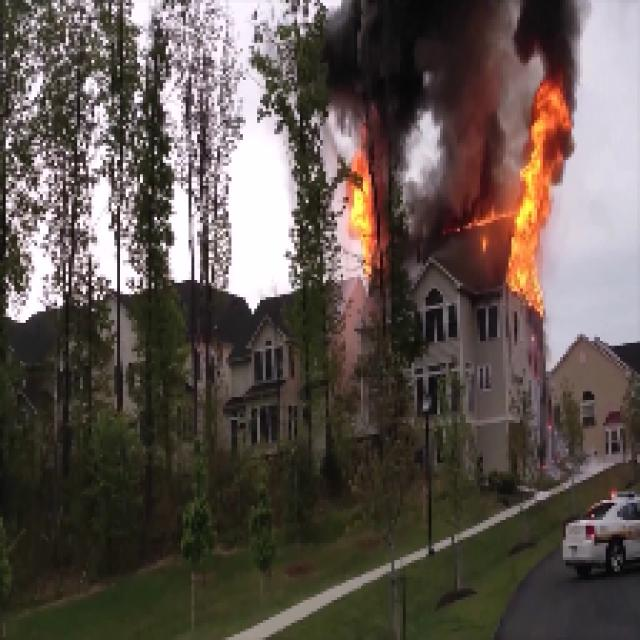fire: (516, 88, 562, 308)
smoke: (427, 3, 497, 227), (346, 2, 422, 138), (521, 0, 585, 84)
